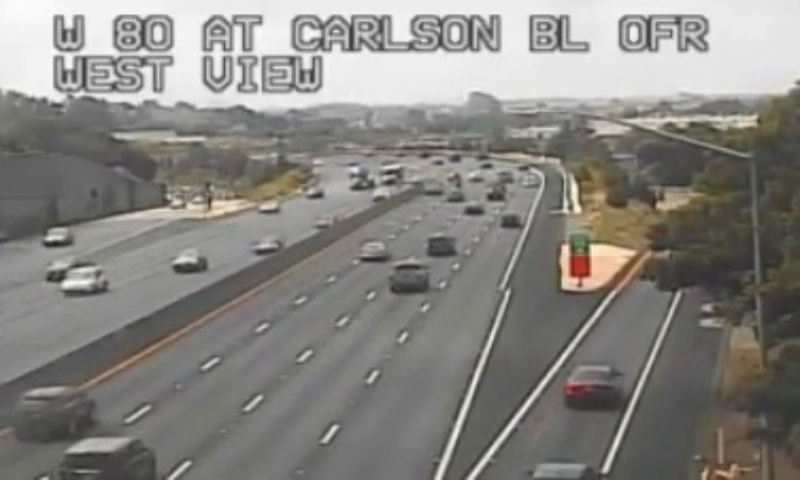car: (59, 436, 157, 480), (14, 386, 95, 436), (563, 365, 619, 405), (389, 261, 427, 292), (425, 234, 455, 256), (360, 241, 388, 259)
